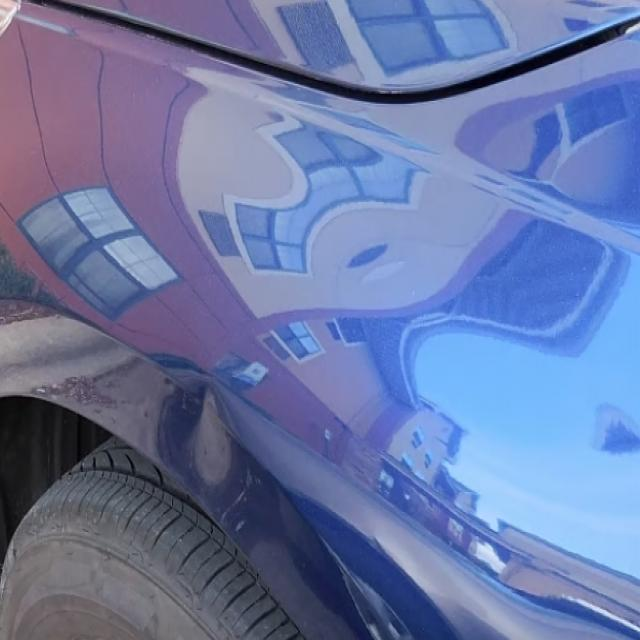dents: (140, 337, 282, 522)
